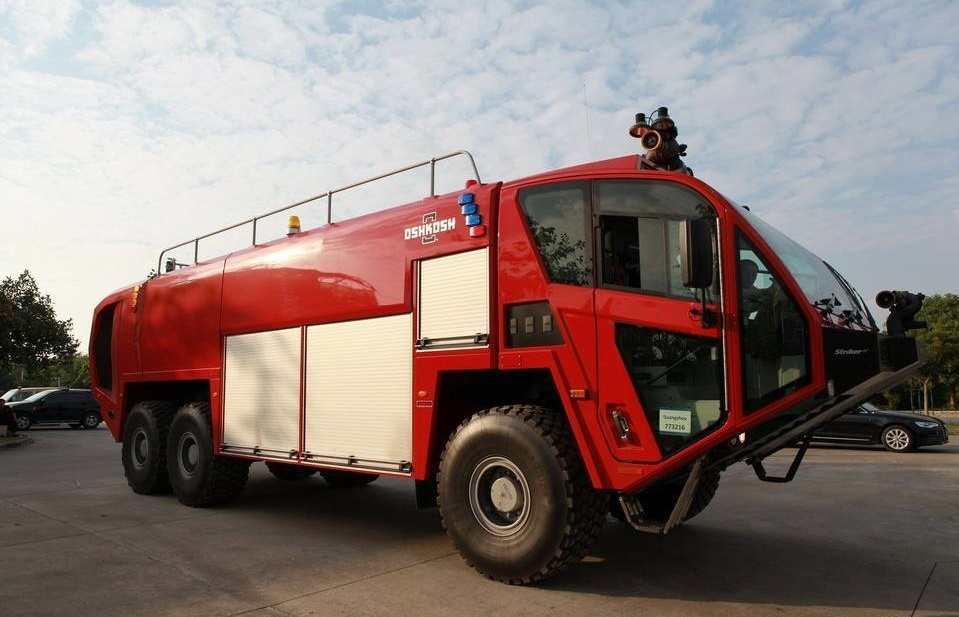fire engine: (86, 124, 915, 574)
